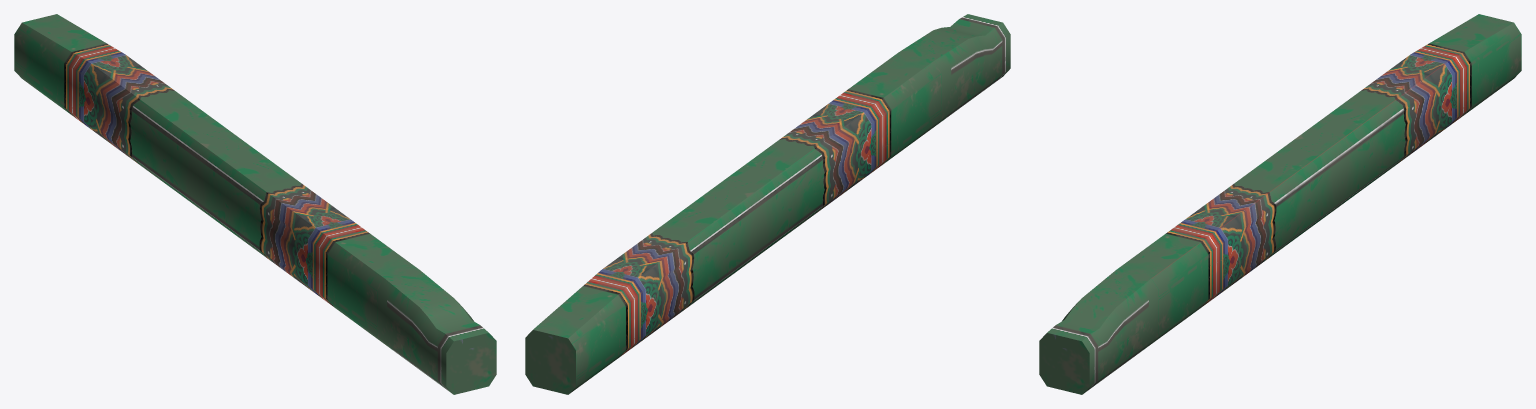
Rendered from SM_Toetbo01c.fbx.
3 renders of one model, left to right at view 1: azimuth 30°, elevation 25°; view 2: azimuth 150°, elevation 25°; view 3: azimuth 330°, elevation 25°, orthographic.
Visible parts, largest first — view 1: SM_Toetbo01c; view 2: SM_Toetbo01c; view 3: SM_Toetbo01c.
Part boxes in pixels (x1,y1,x2,y2): SM_Toetbo01c: [14, 14, 496, 394]; SM_Toetbo01c: [525, 14, 1010, 394]; SM_Toetbo01c: [1039, 14, 1521, 394].
Bounding box in the file's own units: 16 × 238 × 20.
1 material, 1 textured.
